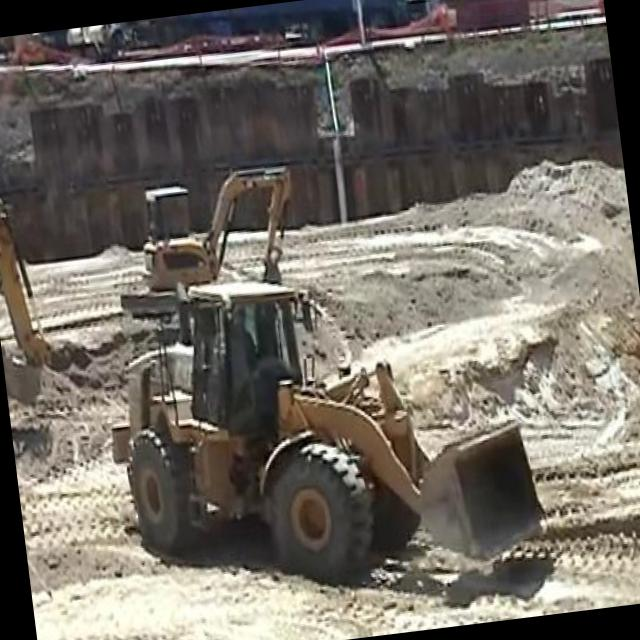Excavator: (104, 159, 304, 323)
Loader: (91, 246, 544, 614)
